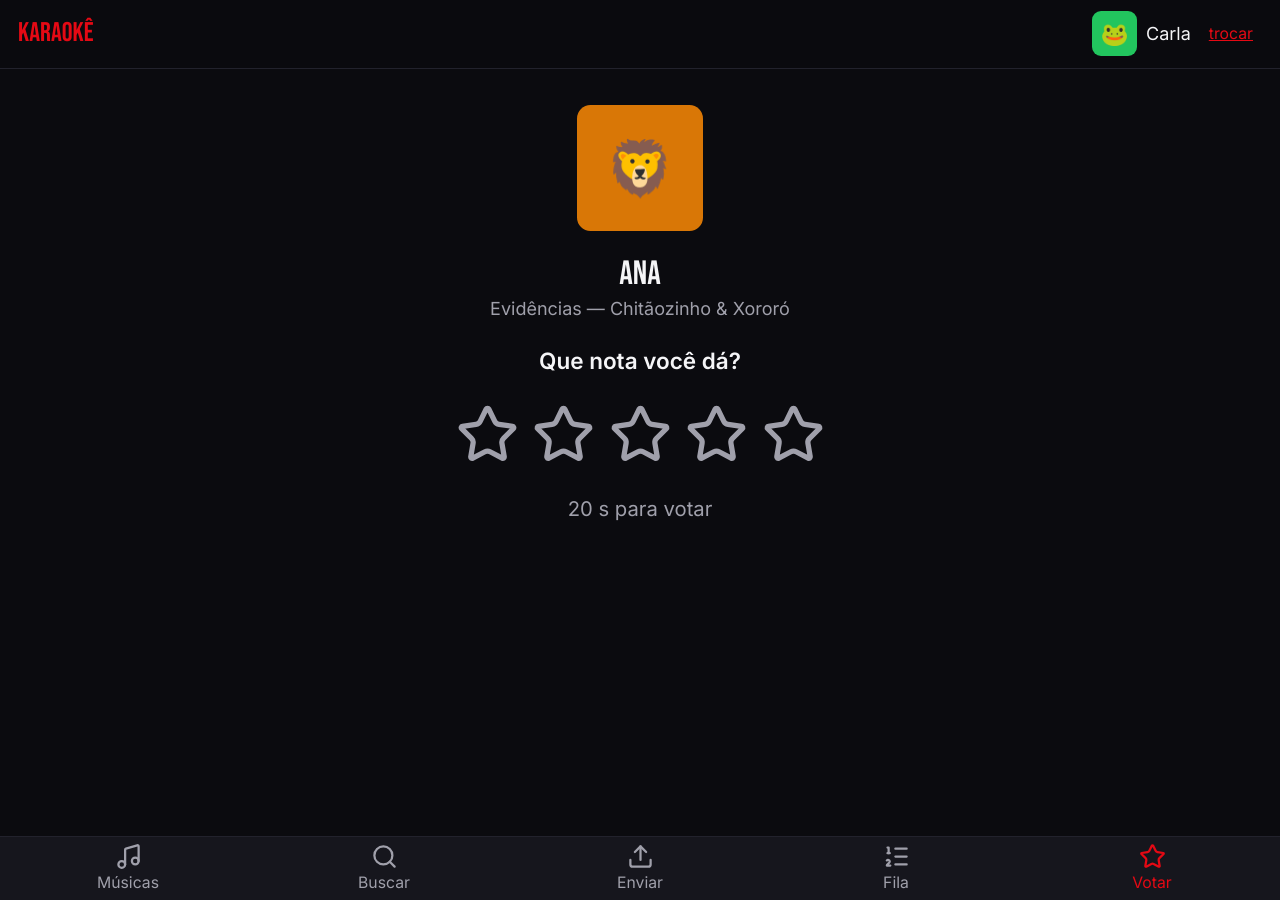
Test case: voting on the phone › votes with the phone token and the identity, then thanks
Click the radio button named "4 estrelas" at (716, 435), box [680, 399, 752, 471]
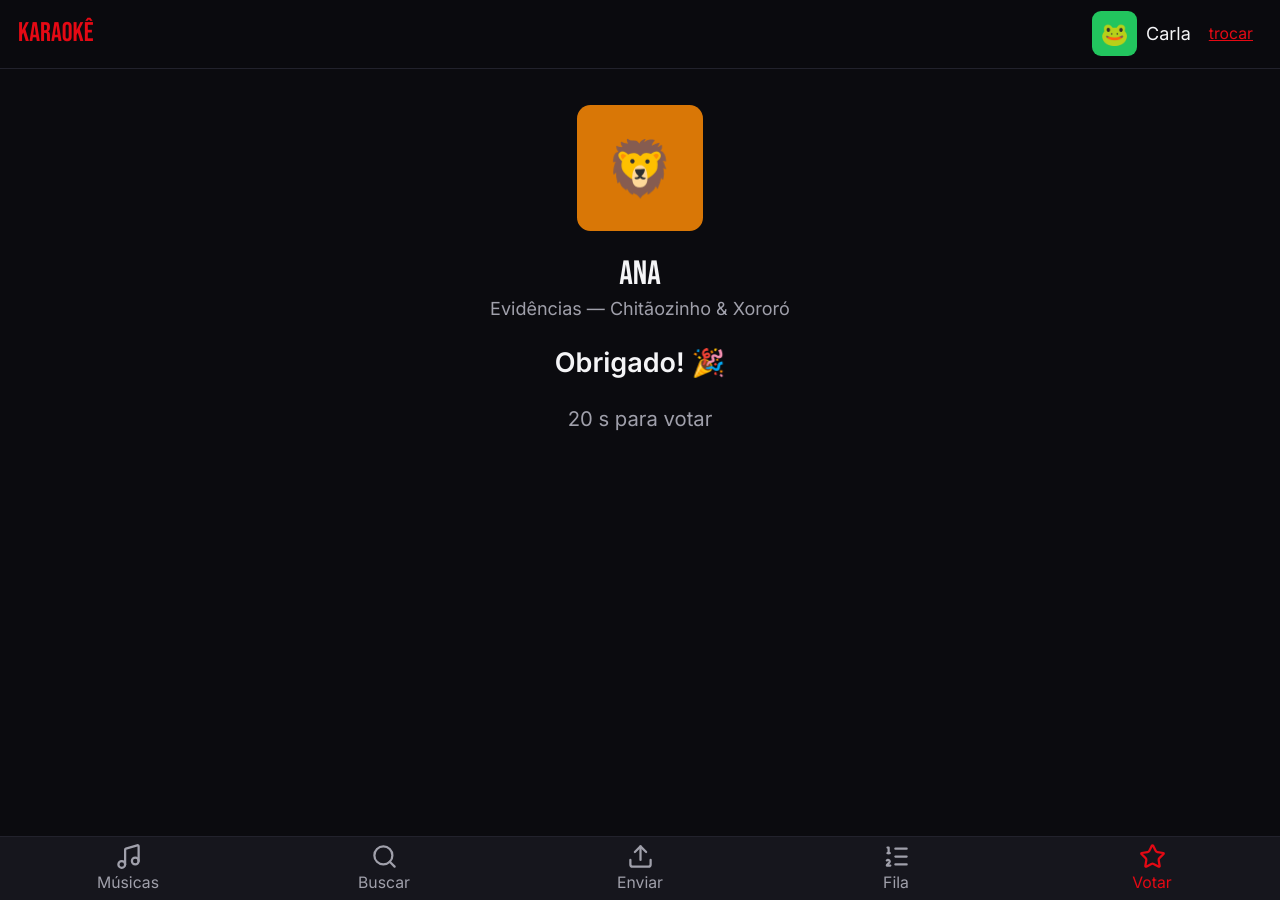
Check: the text "Obrigado! 🎉" is shown, box [555, 345, 725, 381]
